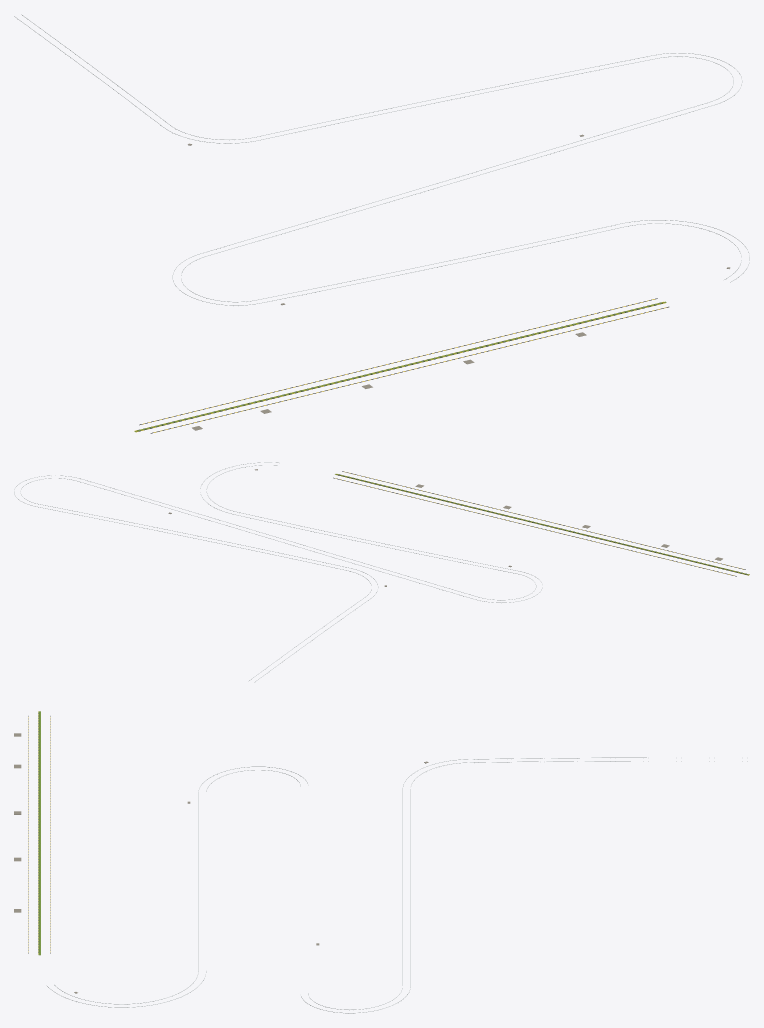
The model's file is Highlands_Furniture.glb.
3 views of the same model, one above another, from view 1: azimuth 30°, elevation 25°; view 2: azimuth 150°, elevation 25°; view 3: azimuth 270°, elevation 25° (orthographic). The views are drawn at different scales.
Parts seen in each view (by area): view 1: Highlands_Furniture_Highlands_GuardrailMetal.006, Highlands_Furniture_Highlands_GuardrailMetal.007; view 2: Highlands_Furniture_Highlands_GuardrailMetal.006, Highlands_Furniture_Highlands_GuardrailMetal.007; view 3: no part large enough to name.
Boxes of the visible parts, x1=… form: Highlands_Furniture_Highlands_GuardrailMetal.006: x1=300, y1=88, x2=545, y2=210; Highlands_Furniture_Highlands_GuardrailMetal.007: x1=486, y1=53, x2=727, y2=155; Highlands_Furniture_Highlands_GuardrailMetal.006: x1=167, y1=518, x2=357, y2=563; Highlands_Furniture_Highlands_GuardrailMetal.007: x1=27, y1=476, x2=211, y2=532.
Size of the model in its own units: 1060 by 101 by 937.
